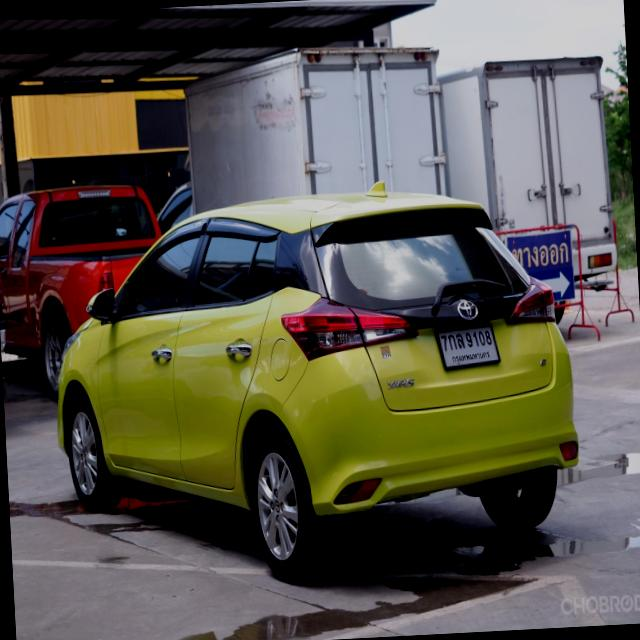license_plate: (432, 318, 505, 375)
